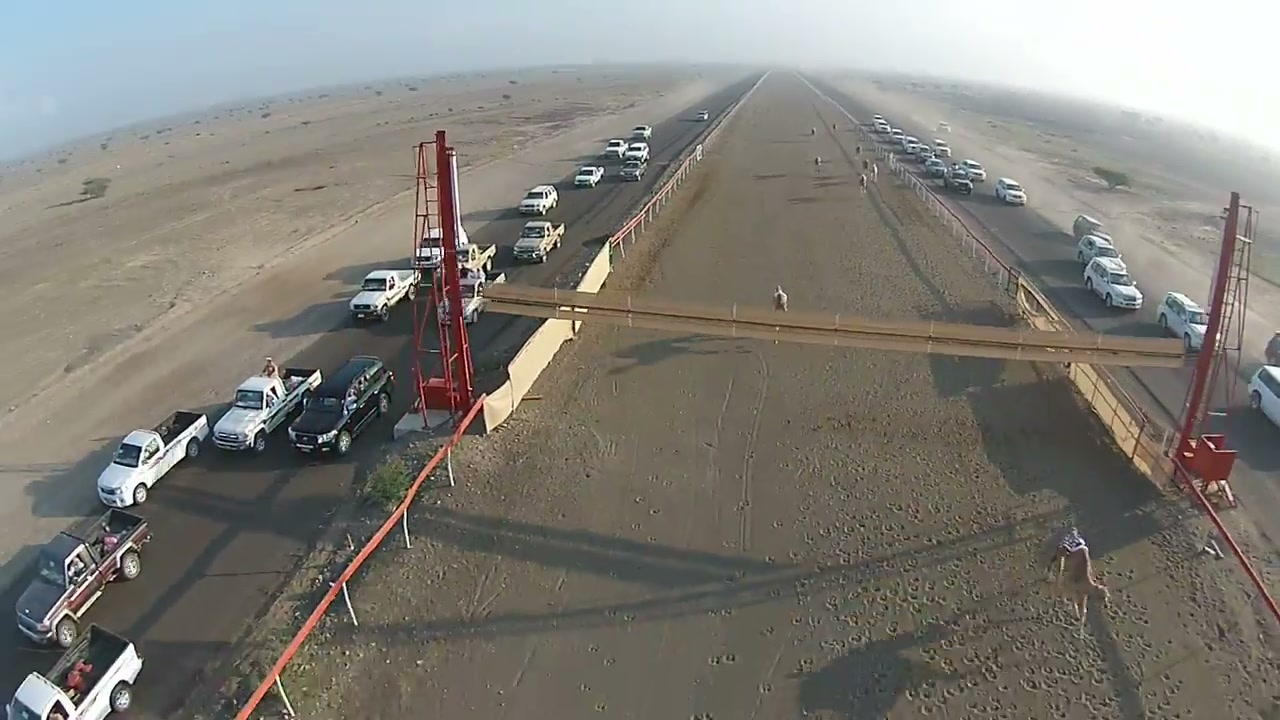animal_footprint: (800, 404, 1090, 711), (562, 542, 660, 719), (688, 484, 760, 709)
